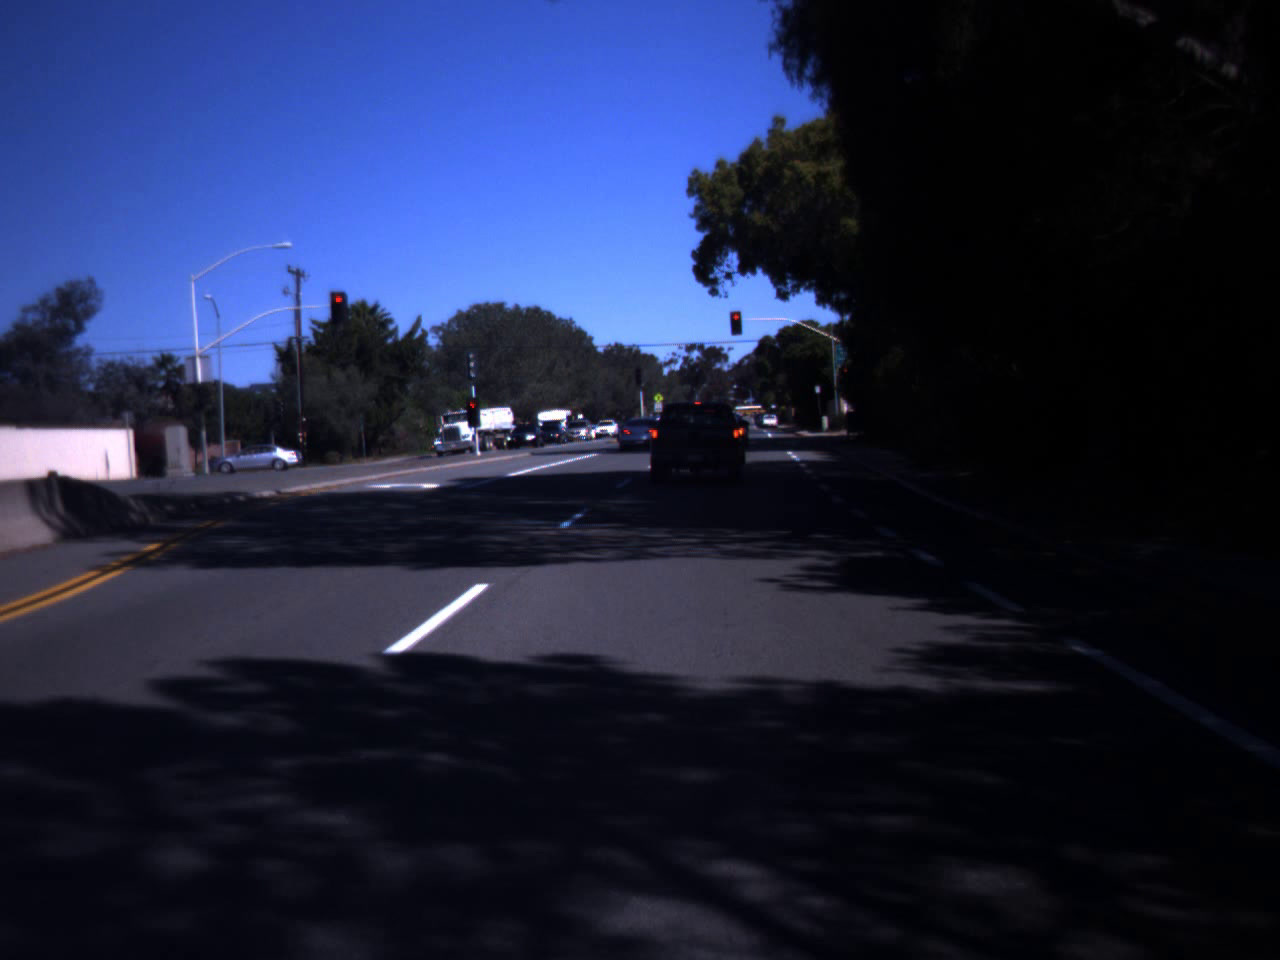stop: (331, 296, 346, 314), (466, 402, 478, 419)
